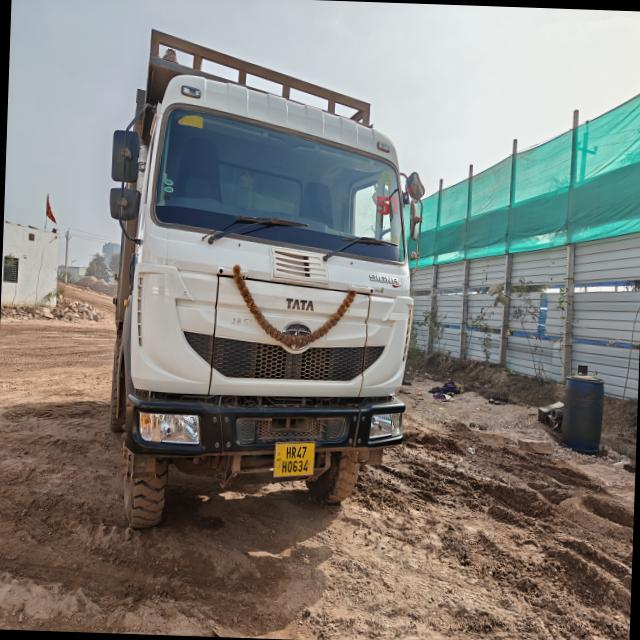license_plate: (274, 443, 314, 477)
